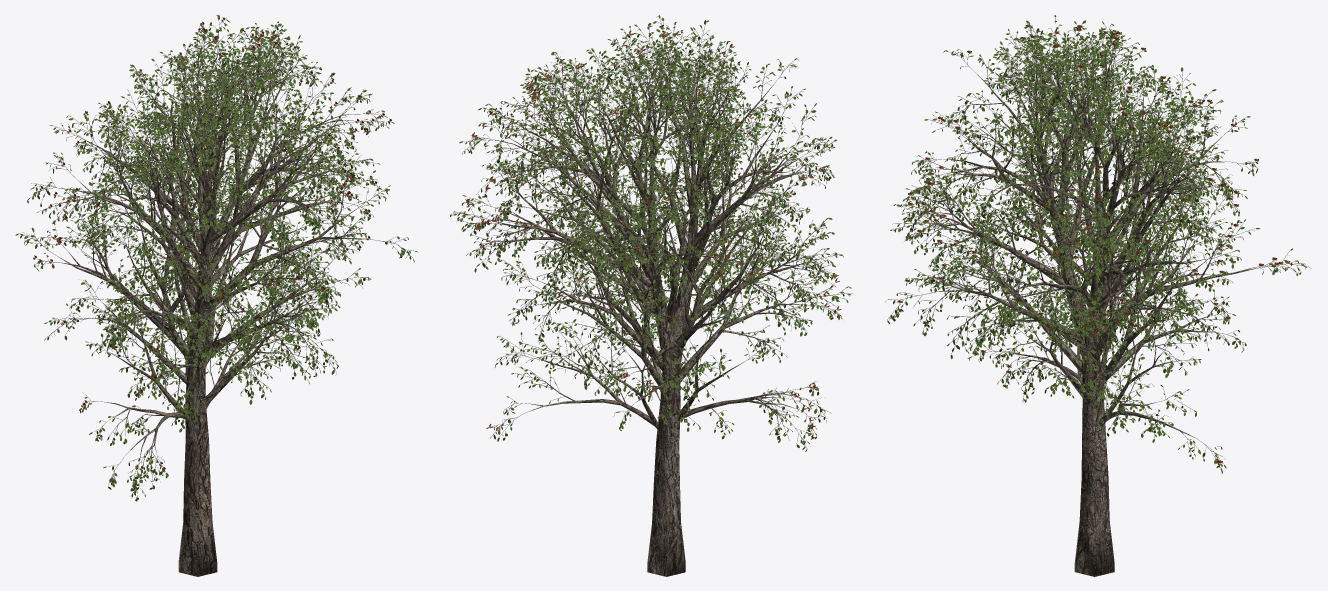
Rendered from tree.fbx.
The picture shows the model from 3 angles, left to right: view 1: azimuth 30°, elevation 25°; view 2: azimuth 150°, elevation 25°; view 3: azimuth 270°, elevation 25°; orthographic projection. The views are drawn at different scales.
Visible parts, largest first — view 1: tree, leaves, fruits; view 2: tree, leaves, fruits; view 3: tree, leaves, fruits.
Part boxes in pixels (box(x1,y1,x2,y2)): tree: box(19, 17, 413, 576); leaves: box(15, 14, 417, 500); fruits: box(33, 17, 391, 501); tree: box(454, 17, 851, 576); leaves: box(450, 15, 852, 451); fruits: box(457, 23, 841, 438); tree: box(887, 18, 1308, 576); leaves: box(885, 15, 1311, 473); fruits: box(898, 24, 1290, 463).
Size of the model in its own units: 598 by 895 by 626.
3 materials, 3 textured.
